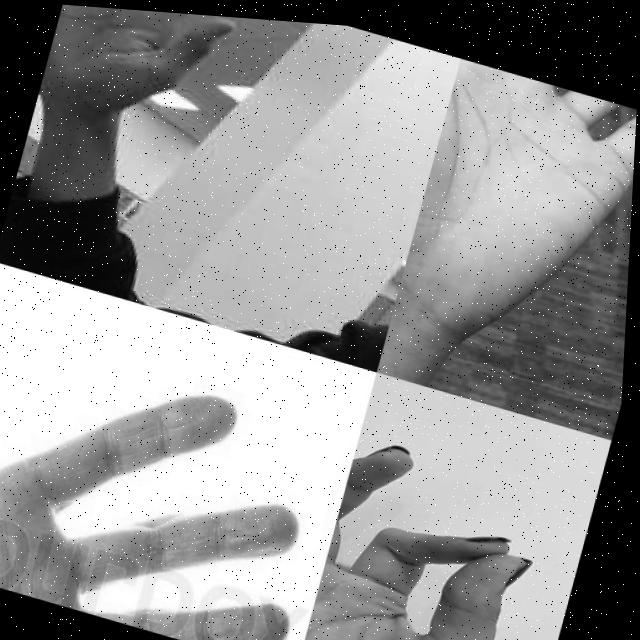hand: (0, 310, 351, 640), (393, 47, 639, 368), (302, 423, 574, 640), (38, 3, 240, 133)
